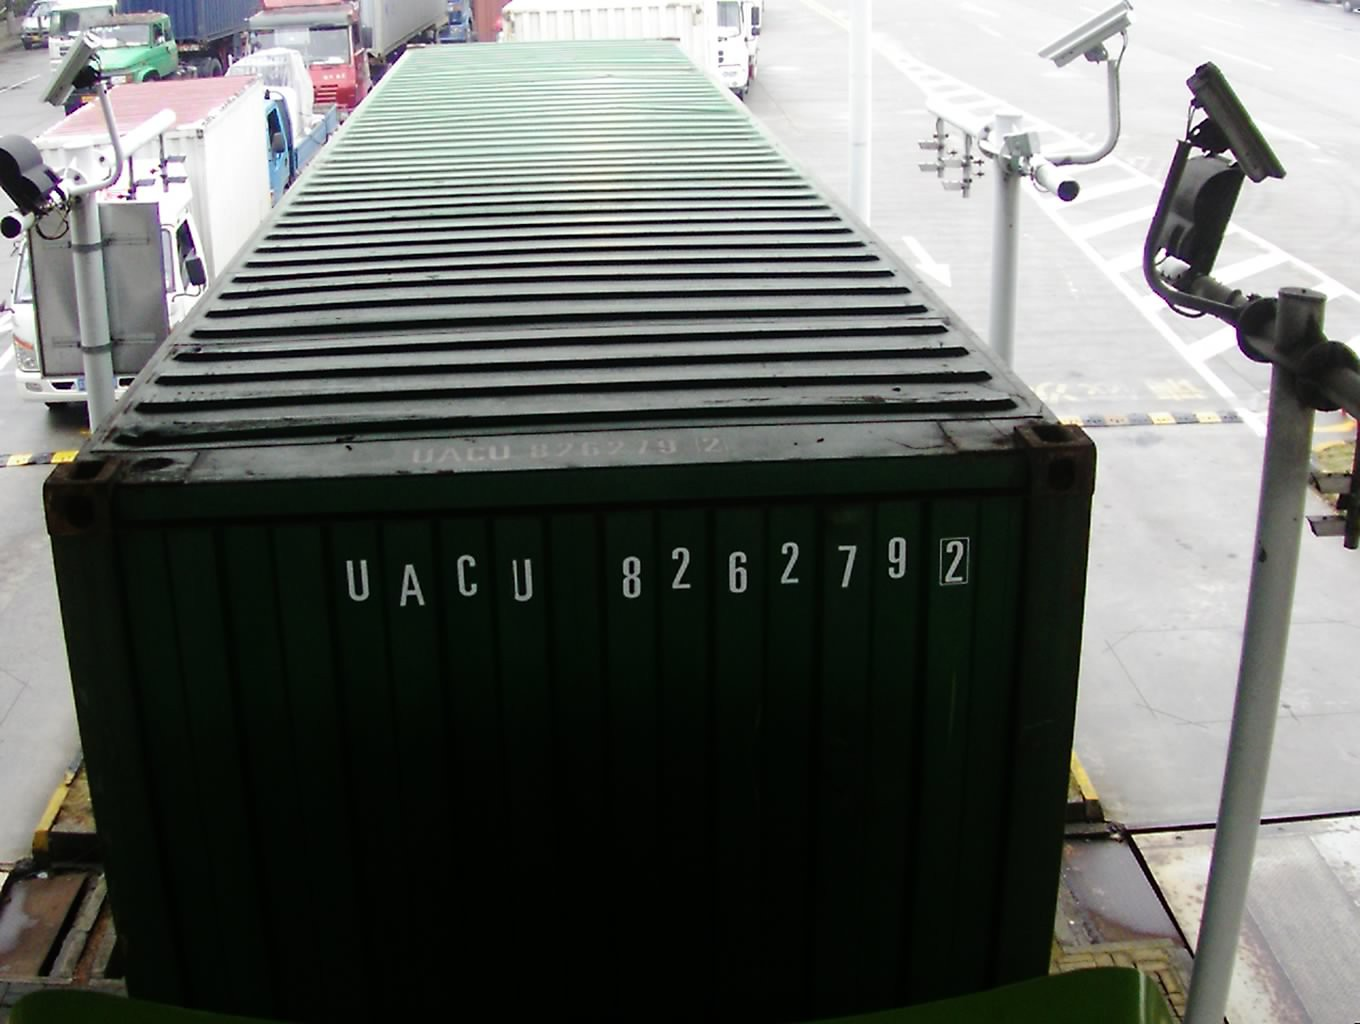words: (325, 537, 976, 614)
